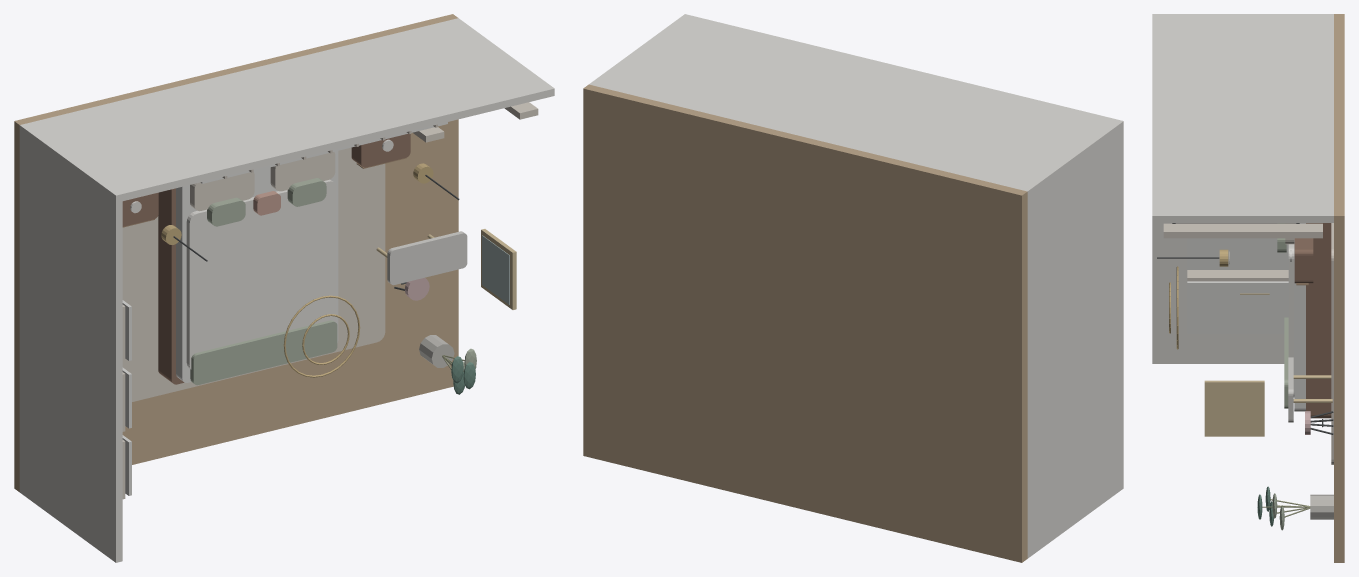
Rendered from 3d-serene-bedroom.glb.
3 renders of one model, left to right at view 1: azimuth 30°, elevation 25°; view 2: azimuth 150°, elevation 25°; view 3: azimuth 270°, elevation 25°, orthographic. The views are drawn at different scales.
Visible parts, largest first — view 1: rear_feature_wall_002, left_wall_003, foundation_floor_001, quilted_duvet_025, area_rug_022, folded_blanket_at_end_026, bed_mattress_024, bed_platform_base_023, bedroom_vanity_top_056, large_sleeping_pillow_028, large_sleeping_pillow_030, round_mirror_surface_060 (+6 smaller); view 2: foundation_floor_001, rear_feature_wall_002, left_wall_003; view 3: rear_feature_wall_002, left_wall_003, foundation_floor_001, wardrobe_wood_door_048, bed_platform_base_023, round_mirror_back_059, wardrobe_wood_door_051, floor_to_ceiling_curtains_074, bed_mattress_024, wardrobe_closet_carcass_047, floating_bedside_cabinet_040, quilted_duvet_025 (+4 smaller).
Part boxes in pixels (left/top/right/bottom): rear_feature_wall_002: left=19, top=18, right=554, bottom=202; left_wall_003: left=19, top=123, right=122, bottom=562; foundation_floor_001: left=14, top=14, right=458, bottom=491; quilted_duvet_025: left=186, top=179, right=336, bottom=369; area_rug_022: left=122, top=147, right=385, bottom=401; folded_blanket_at_end_026: left=190, top=320, right=337, bottom=385; bed_mattress_024: left=176, top=151, right=338, bottom=382; bed_platform_base_023: left=158, top=188, right=184, bottom=384; bedroom_vanity_top_056: left=387, top=231, right=467, bottom=285; large_sleeping_pillow_028: left=190, top=172, right=254, bottom=211; large_sleeping_pillow_030: left=270, top=152, right=335, bottom=191; round_mirror_surface_060: left=482, top=235, right=509, bottom=304; foundation_floor_001: left=583, top=84, right=1027, bottom=562; rear_feature_wall_002: left=589, top=14, right=1123, bottom=197; left_wall_003: left=1021, top=119, right=1123, bottom=558; rear_feature_wall_002: left=1152, top=14, right=1333, bottom=222; left_wall_003: left=1152, top=14, right=1333, bottom=363; foundation_floor_001: left=1334, top=14, right=1344, bottom=562; wardrobe_wood_door_048: left=1187, top=281, right=1288, bottom=333; bed_platform_base_023: left=1306, top=223, right=1331, bottom=418; round_mirror_back_059: left=1204, top=380, right=1264, bottom=436; wardrobe_wood_door_051: left=1187, top=223, right=1288, bottom=269; floor_to_ceiling_curtains_074: left=1163, top=223, right=1322, bottom=238; bed_mattress_024: left=1294, top=223, right=1305, bottom=411; wardrobe_closet_carcass_047: left=1187, top=270, right=1288, bottom=281; floating_bedside_cabinet_040: left=1294, top=238, right=1313, bottom=283; quilted_duvet_025: left=1288, top=244, right=1294, bottom=397.
Bounding box in the file's own units: 10 × 8 × 4.02.
